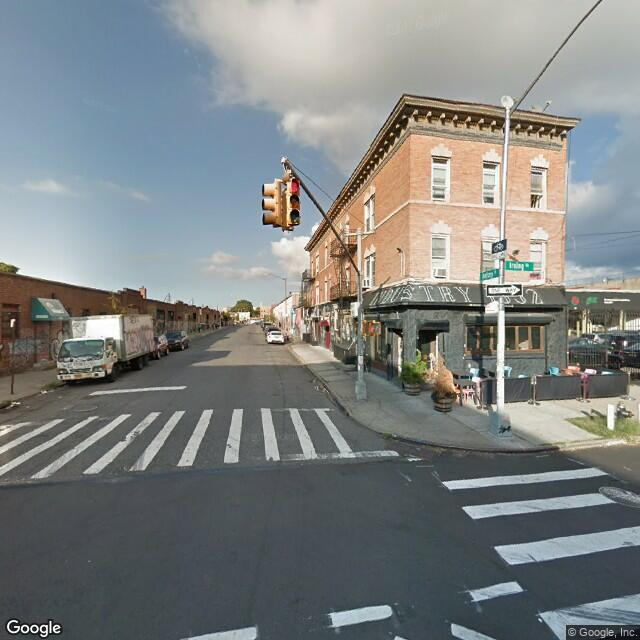litter: (4, 401, 22, 411), (38, 386, 53, 395), (314, 383, 326, 391)
